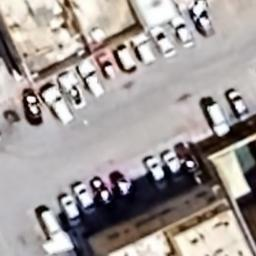SUV: (199, 99, 231, 139), (33, 210, 67, 246), (129, 34, 156, 67), (114, 40, 139, 74)
sedan: (148, 26, 180, 60), (69, 182, 98, 218), (18, 90, 44, 130), (164, 147, 190, 187), (189, 2, 217, 39), (169, 15, 198, 50), (225, 87, 253, 123), (141, 155, 169, 191), (108, 168, 136, 204), (56, 192, 82, 228), (89, 177, 115, 210), (95, 50, 119, 83)
truck: (37, 84, 77, 126), (53, 70, 88, 110), (76, 62, 106, 100)
